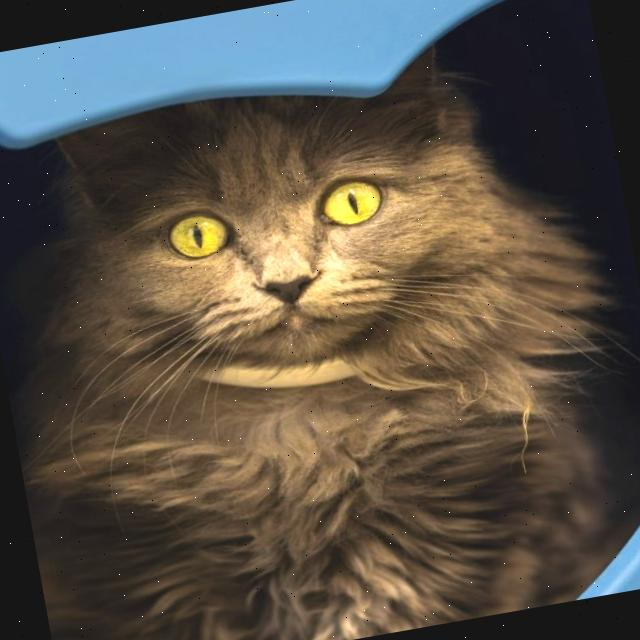domestic_long_hair_cat: (0, 23, 629, 489)
